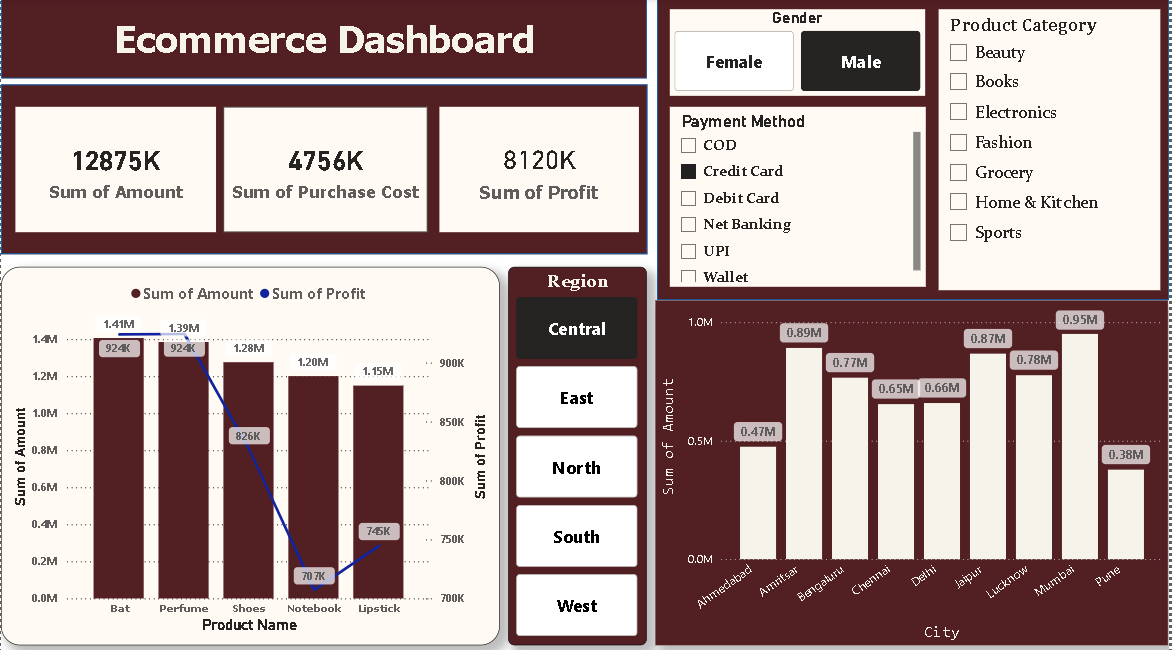

What the dashboard file says about the page in this screenshot:
{"tool":"powerbi","page":{"name":"Dashboard","canvas":[1280,720],"ordinal":0},"visuals":[{"type":"shape","box":[0,0,708.3,88.3],"z":0},{"type":"shape","box":[0,95,708.8,186.2],"z":1000},{"type":"card","fields":{"Values":["Sum(Ecommerce Sales Data.Amount)"]},"box":[15,120,220,137.5],"z":2000},{"type":"card","fields":{"Values":["Sum(Ecommerce Sales Data.Purchase Cost)"]},"box":[243.8,120,223.8,137.5],"z":3000},{"type":"card","fields":{"Values":["Sum(Ecommerce Sales Data.Profit)"]},"box":[480,120,218.8,137.5],"z":4000},{"type":"lineClusteredColumnComboChart","fields":{"Category":["Ecommerce Sales Data.Product Name"],"Y":["Sum(Ecommerce Sales Data.Amount)"],"Y2":["Sum(Ecommerce Sales Data.Profit)"]},"box":[0,295,546.7,415],"z":5000},{"type":"shape","box":[718.8,0,561.2,331.2],"z":6000},{"type":"slicer","fields":{"Values":["Ecommerce Sales Data.Product Category"]},"box":[1028.3,11.7,243.3,308.3],"z":7000},{"type":"advancedSlicerVisual","fields":{"Values":["Ecommerce Sales Data.Gender"]},"box":[733.3,11.7,280,95],"z":8000},{"type":"slicer","fields":{"Values":["Ecommerce Sales Data.Payment Method"]},"box":[733.3,120,280,196.7],"z":9000},{"type":"advancedSlicerVisual","fields":{"Values":["Ecommerce Sales Data.Region"]},"box":[556.7,295,151.7,415],"z":10000},{"type":"lineClusteredColumnComboChart","fields":{"Y":["Sum(Ecommerce Sales Data.Amount)"],"Category":["Ecommerce Sales Data.Payment Method","Ecommerce Sales Data.City"]},"box":[718.3,331.7,561.7,378.3],"z":11000}]}

Visuals, with their boxes in screenshot pixels (x1, y1, x2, y2), scaled from the page's 1280x720 canvas onto the 1172x650 screenshot:
shape: Rect(0, 0, 649, 80)
shape: Rect(0, 86, 649, 254)
card - Sum(Ecommerce Sales Data.Amount): Rect(14, 108, 215, 232)
card - Sum(Ecommerce Sales Data.Purchase Cost): Rect(223, 108, 428, 232)
card - Sum(Ecommerce Sales Data.Profit): Rect(440, 108, 640, 232)
lineClusteredColumnComboChart - Ecommerce Sales Data.Product Name x Sum(Ecommerce Sales Data.Amount): Rect(0, 266, 501, 641)
shape: Rect(658, 0, 1171, 299)
slicer - Ecommerce Sales Data.Product Category: Rect(942, 11, 1164, 289)
advancedSlicerVisual - Ecommerce Sales Data.Gender: Rect(671, 11, 928, 96)
slicer - Ecommerce Sales Data.Payment Method: Rect(671, 108, 928, 286)
advancedSlicerVisual - Ecommerce Sales Data.Region: Rect(510, 266, 649, 641)
lineClusteredColumnComboChart - Sum(Ecommerce Sales Data.Amount) x Ecommerce Sales Data.Payment Method: Rect(658, 299, 1171, 641)
